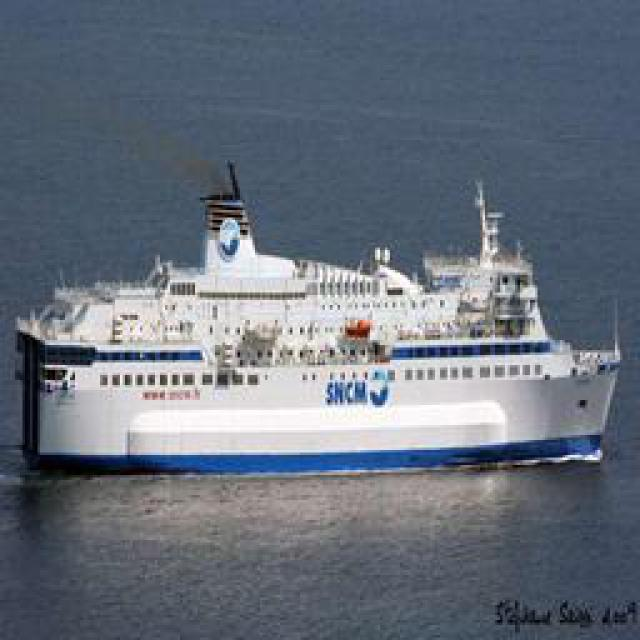Ship: (17, 163, 625, 481)
